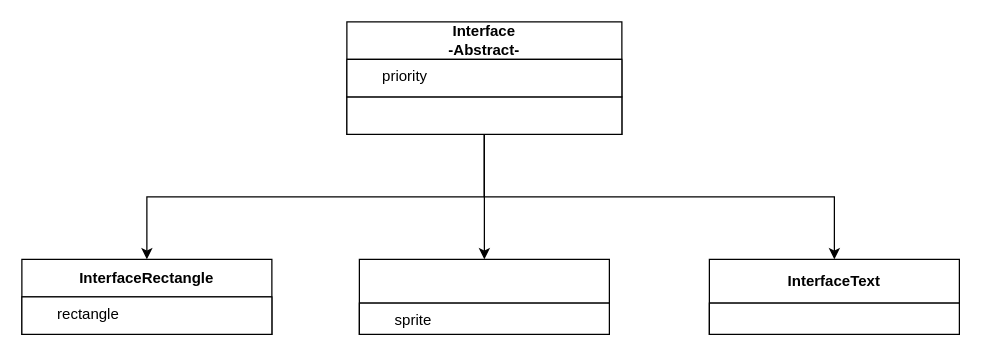
Image size: 981x356. Some labels were removed from this diagram. Here are the shapes that lost their labels. From the top down, the box of each, then its label:
(346, 96, 622, 134): + display()
(358, 258, 609, 334): InterfaceSprite
(708, 302, 959, 334): Text
